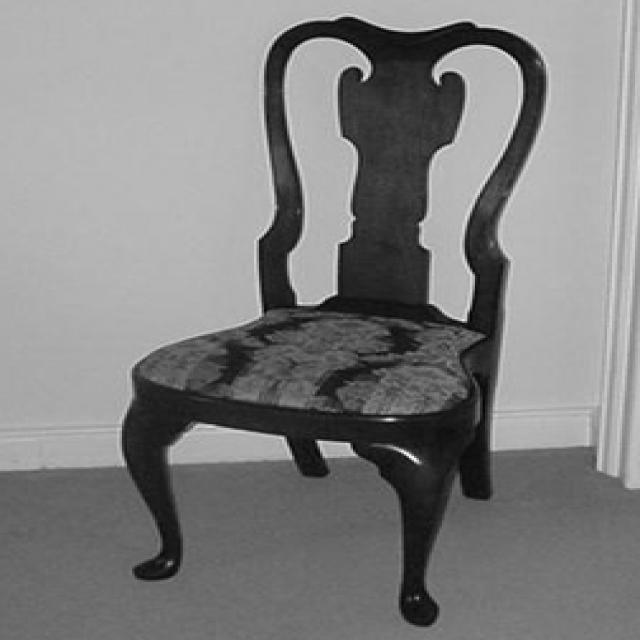chair: (115, 8, 550, 628)
